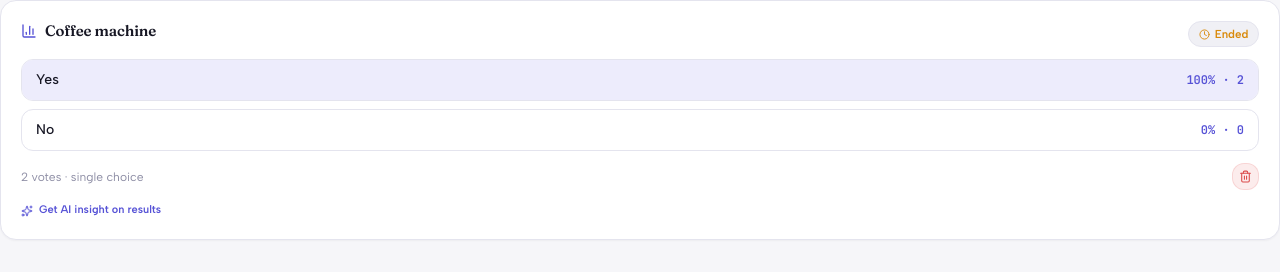
PollCard — delete + AI insight › fetches and renders an AI insight on demand
What coordinates should you click on to do the following:
click the button "Get AI insight on results"
I would click on:
 (91, 211)
Its box is x1=21 y1=202 x2=161 y2=219.
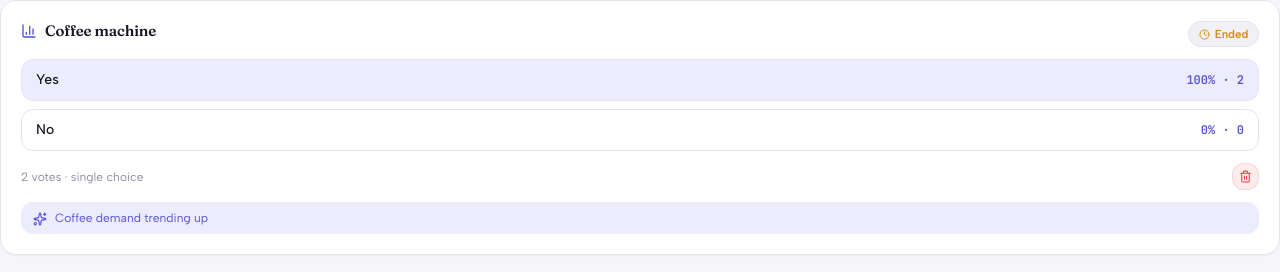
Expected: the text "Coffee demand trending up" is shown, x1=55 y1=210 x2=208 y2=226
